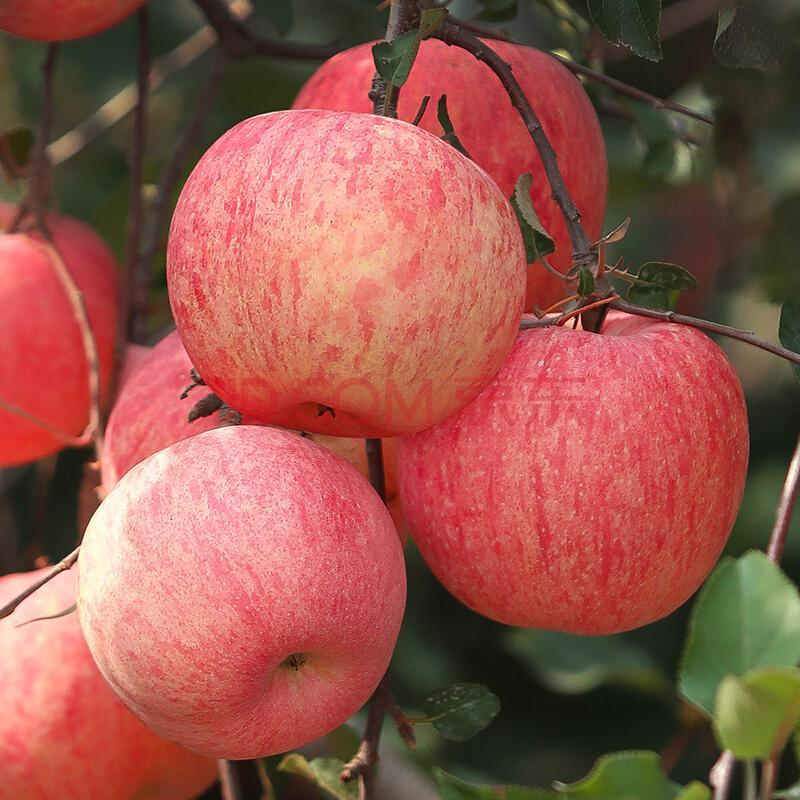apple: (382, 303, 755, 638), (161, 114, 539, 443), (70, 424, 405, 755)
